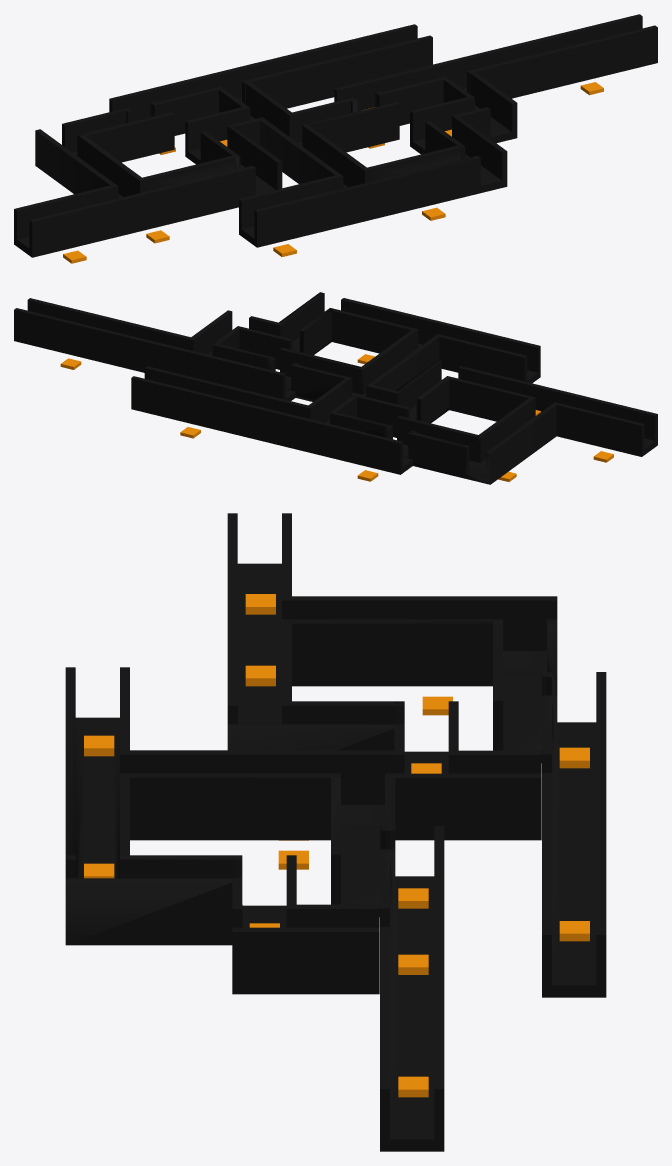
The model's file is LaverintoBig.FBX.
3 views of the same model, one above another, from view 1: azimuth 30°, elevation 25°; view 2: azimuth 150°, elevation 25°; view 3: azimuth 270°, elevation 25° (orthographic). The views are drawn at different scales.
Parts seen in each view (by area): view 1: Box014; view 2: Box014; view 3: Box014.
Boxes of the visible parts, left/top/right/bottom form: Box014: left=14, top=14, right=657, bottom=257; Box014: left=14, top=292, right=657, bottom=484; Box014: left=65, top=513, right=606, bottom=1151.
Bounding box in the file's own units: 405 × 32.5 × 161.
